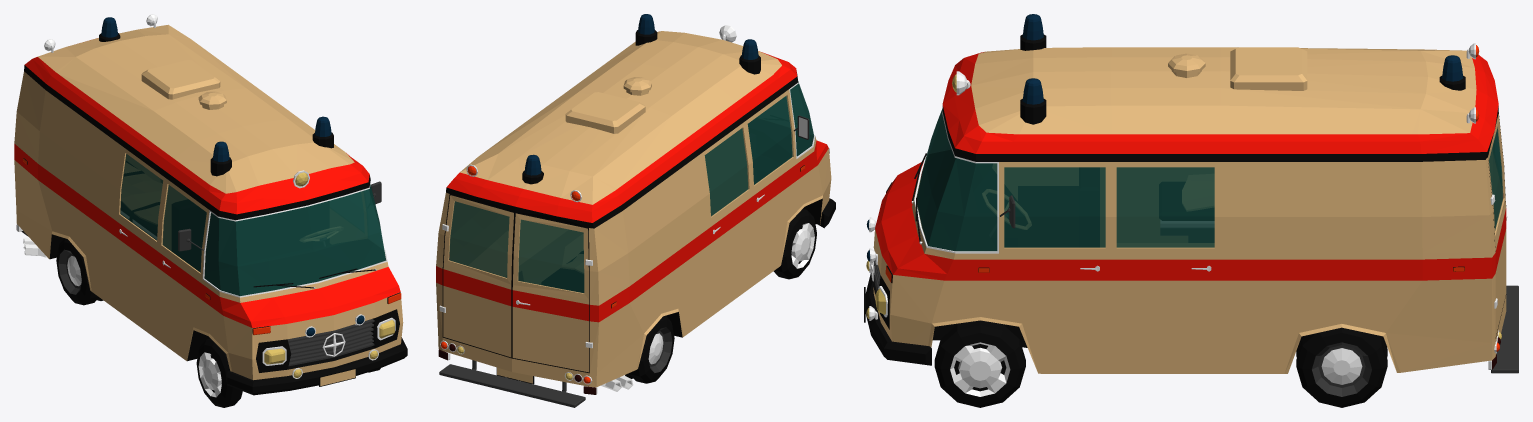
The model's file is Ambulance_01.FBX.
3 renders of one model, left to right at view 1: azimuth 30°, elevation 25°; view 2: azimuth 150°, elevation 25°; view 3: azimuth 270°, elevation 25°, orthographic. The views are drawn at different scales.
Parts seen in each view (by area): view 1: Ambulance_01, interior, grill, wheel_f_r, lights, wheels_b_r, headLights, signalLights_02, licensePlate_f, signalLights_01; view 2: Ambulance_01, interior, wheel_f_r, wheels_b_r, lights, signalLights_02; view 3: Ambulance_01, interior, wheel_f_l, wheels_b_l, lights, signalLights_02.
Part boxes in pixels (x1,y1,x2,y2): Ambulance_01: (14, 24, 407, 395); interior: (120, 154, 385, 295); grill: (287, 319, 374, 366); wheel_f_r: (196, 338, 242, 407); lights: (17, 14, 400, 378); wheels_b_r: (56, 238, 103, 305); headLights: (264, 172, 394, 377); signalLights_02: (101, 17, 364, 324); licensePlate_f: (319, 368, 355, 386); signalLights_01: (306, 116, 331, 336); Ambulance_01: (436, 31, 835, 407); interior: (449, 84, 813, 292); wheel_f_r: (773, 209, 816, 279); wheels_b_r: (625, 315, 674, 383); lights: (440, 25, 829, 394); signalLights_02: (524, 39, 758, 175); Ambulance_01: (865, 47, 1518, 373); interior: (917, 110, 1502, 250); wheel_f_l: (934, 320, 1025, 407); wheels_b_l: (1296, 327, 1387, 407); lights: (869, 34, 1499, 369); signalLights_02: (867, 14, 1463, 261).
Bounding box in the file's own units: 27.23 × 30.96 × 58.97.
